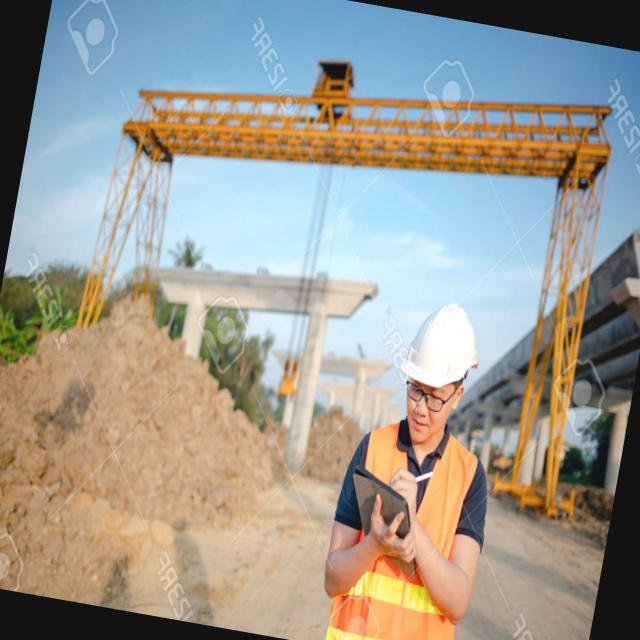goggles: (393, 364, 470, 423)
helmet: (392, 293, 494, 398)
vest: (326, 412, 491, 640)
